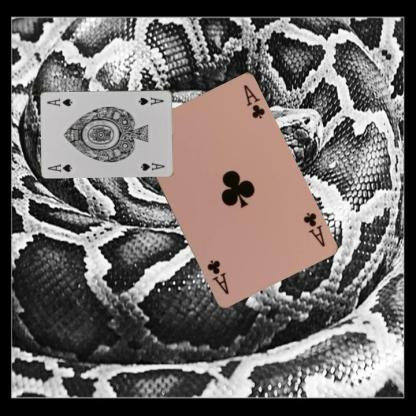Ac: (300, 209, 326, 248)
As: (136, 94, 165, 106), (46, 161, 73, 173)
